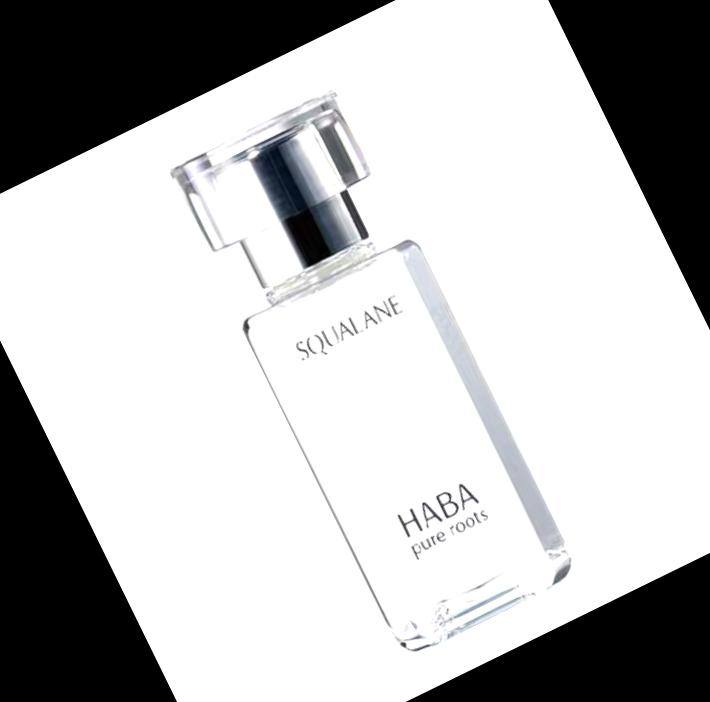cosmetic: (162, 82, 580, 659)
